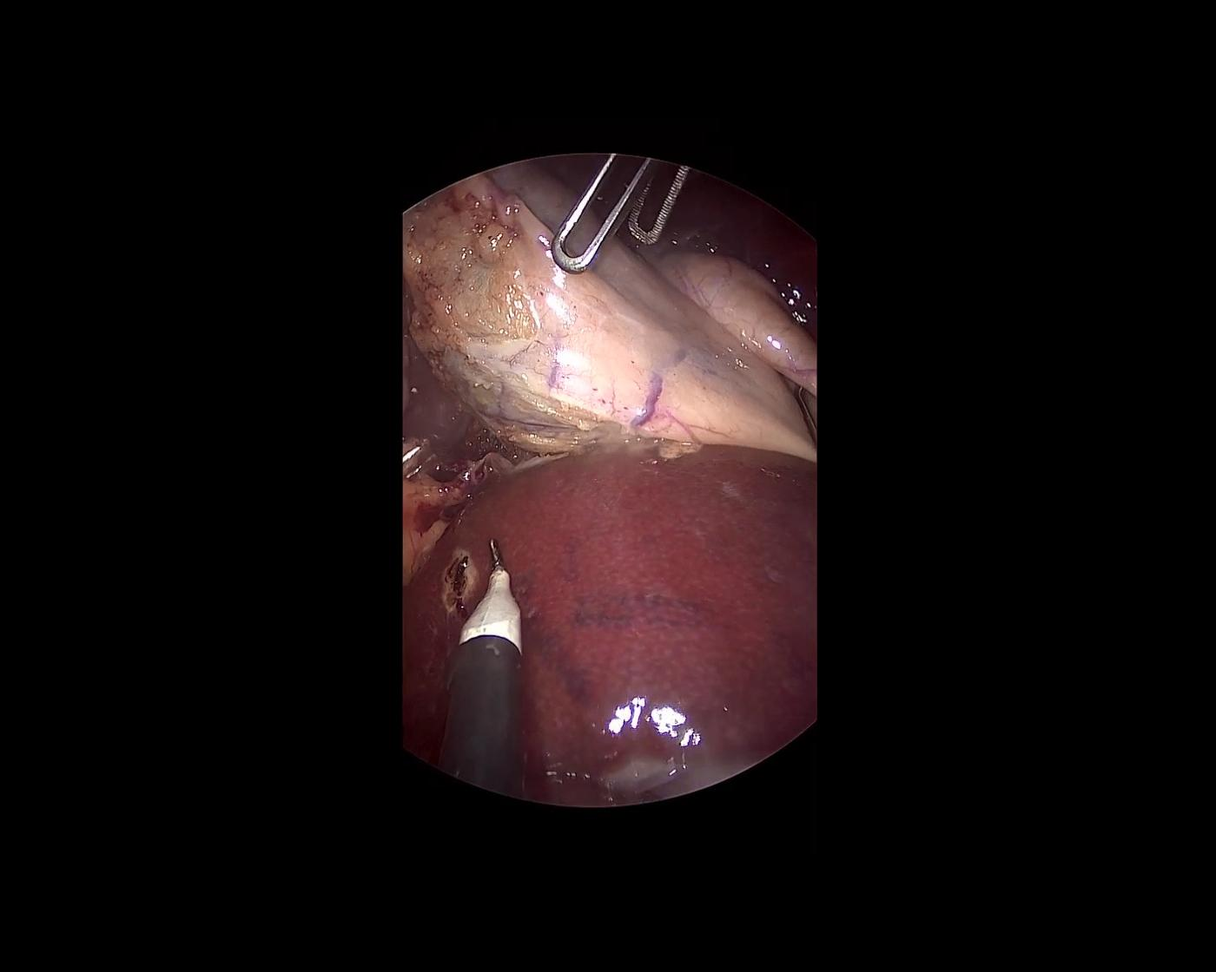Cautery: (429, 536, 526, 800)
Forceps: (544, 126, 695, 300)
Gallbladder: (387, 155, 834, 464)
Liver: (401, 443, 816, 805), (659, 174, 854, 335)
